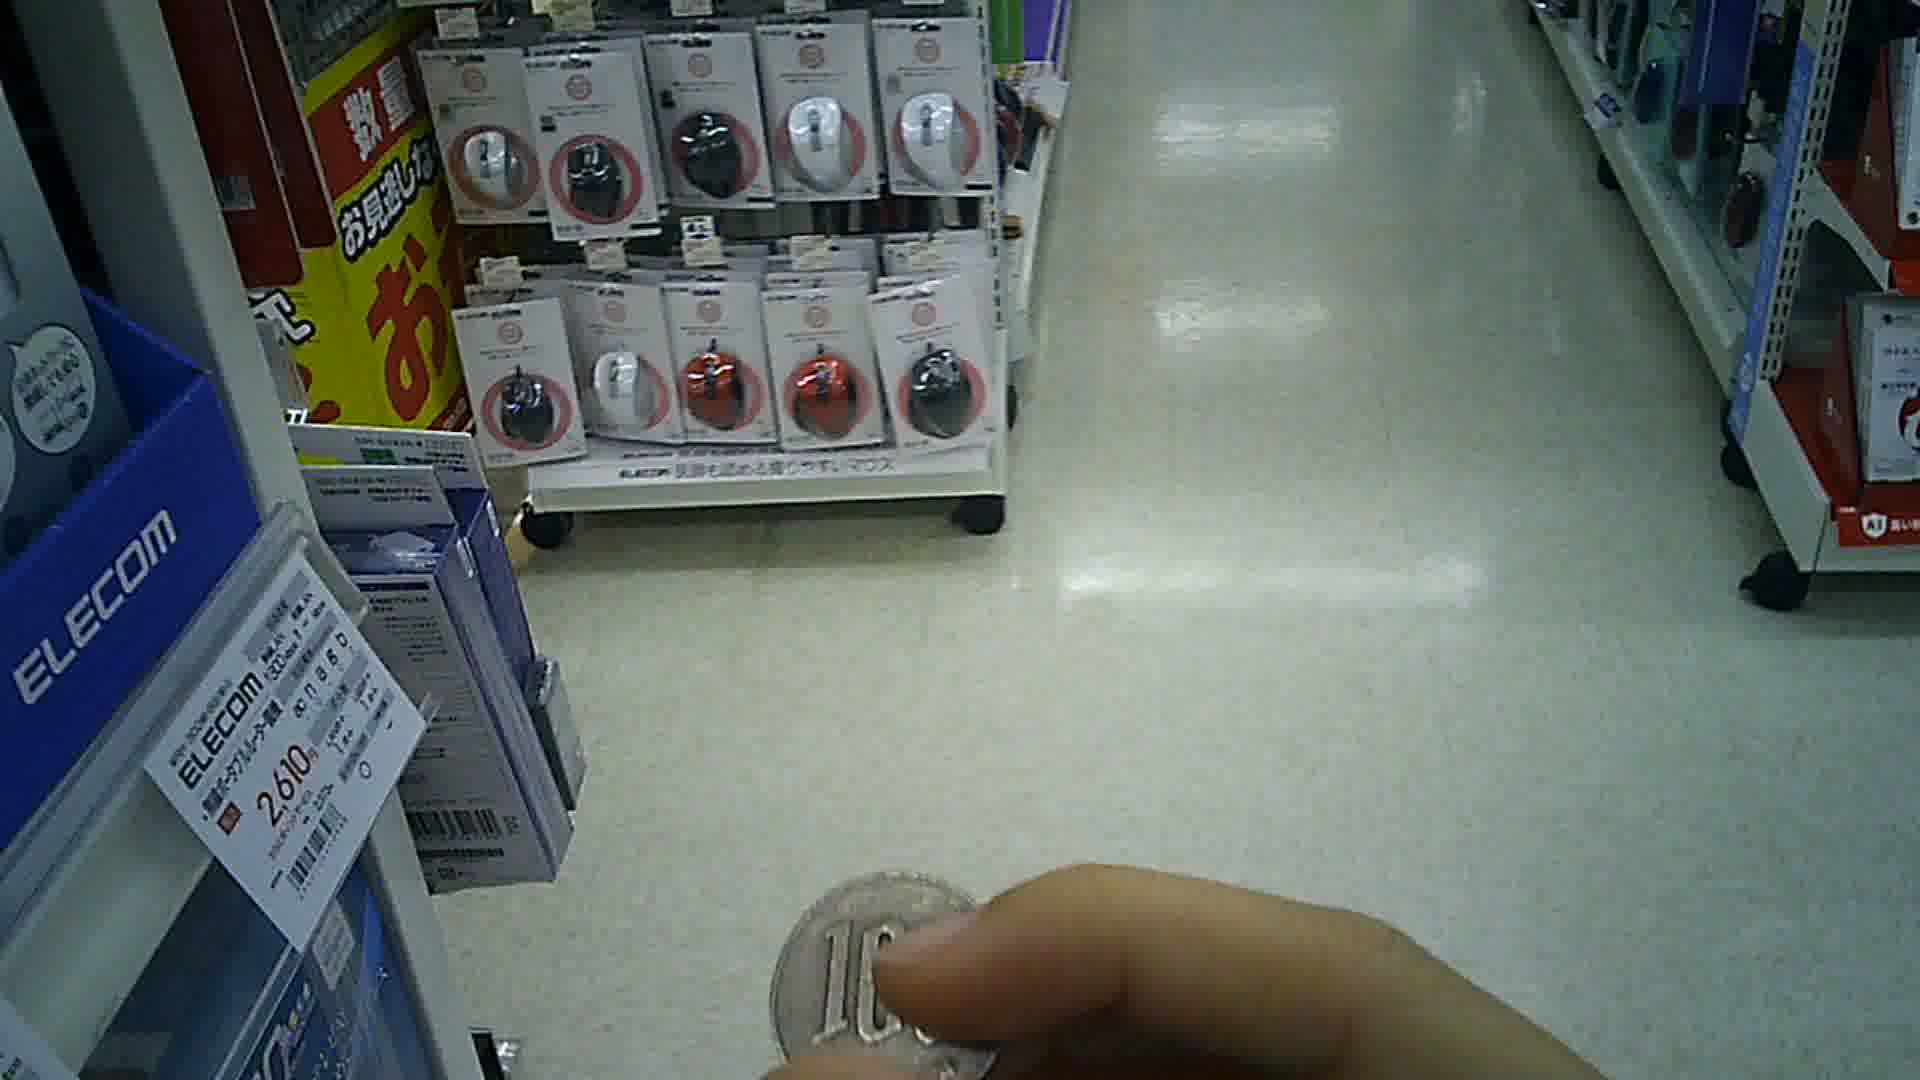100 Yen: (764, 865, 1015, 1079)
